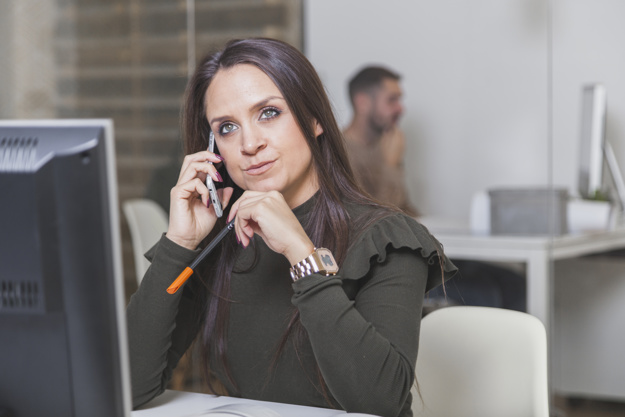phone: (172, 133, 233, 220)
talk: (167, 90, 315, 241)
